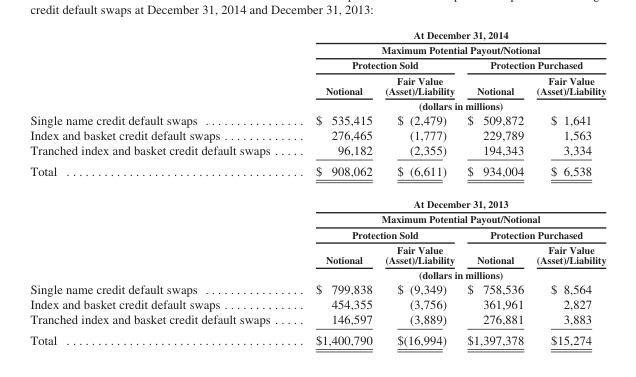table: (29, 28, 605, 346)
table column: (29, 28, 292, 346), (292, 28, 378, 346), (378, 28, 460, 346), (529, 28, 605, 346), (460, 28, 529, 346)
table column header: (29, 28, 605, 111)
table row: (29, 28, 605, 57), (29, 160, 605, 187), (29, 72, 605, 97), (29, 241, 605, 266), (29, 187, 605, 211), (29, 142, 605, 160), (29, 311, 605, 329), (29, 329, 605, 346), (29, 111, 605, 127), (29, 57, 605, 72), (29, 127, 605, 142), (29, 211, 605, 226), (29, 226, 605, 241), (29, 266, 605, 281), (29, 281, 605, 296), (29, 296, 605, 311), (29, 97, 605, 111)
table spanning cell: (29, 160, 292, 281), (292, 28, 605, 57), (292, 187, 605, 211), (292, 211, 605, 226), (292, 266, 605, 281), (292, 97, 605, 111), (292, 57, 460, 72), (292, 226, 460, 241), (460, 57, 605, 72), (460, 226, 605, 241)
